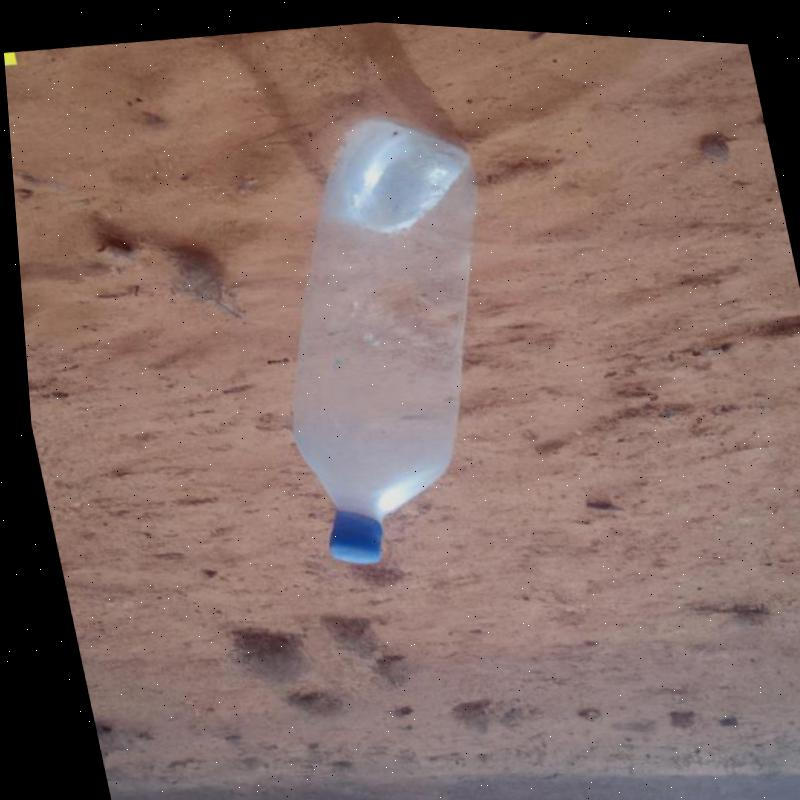botella: (224, 100, 544, 576)
